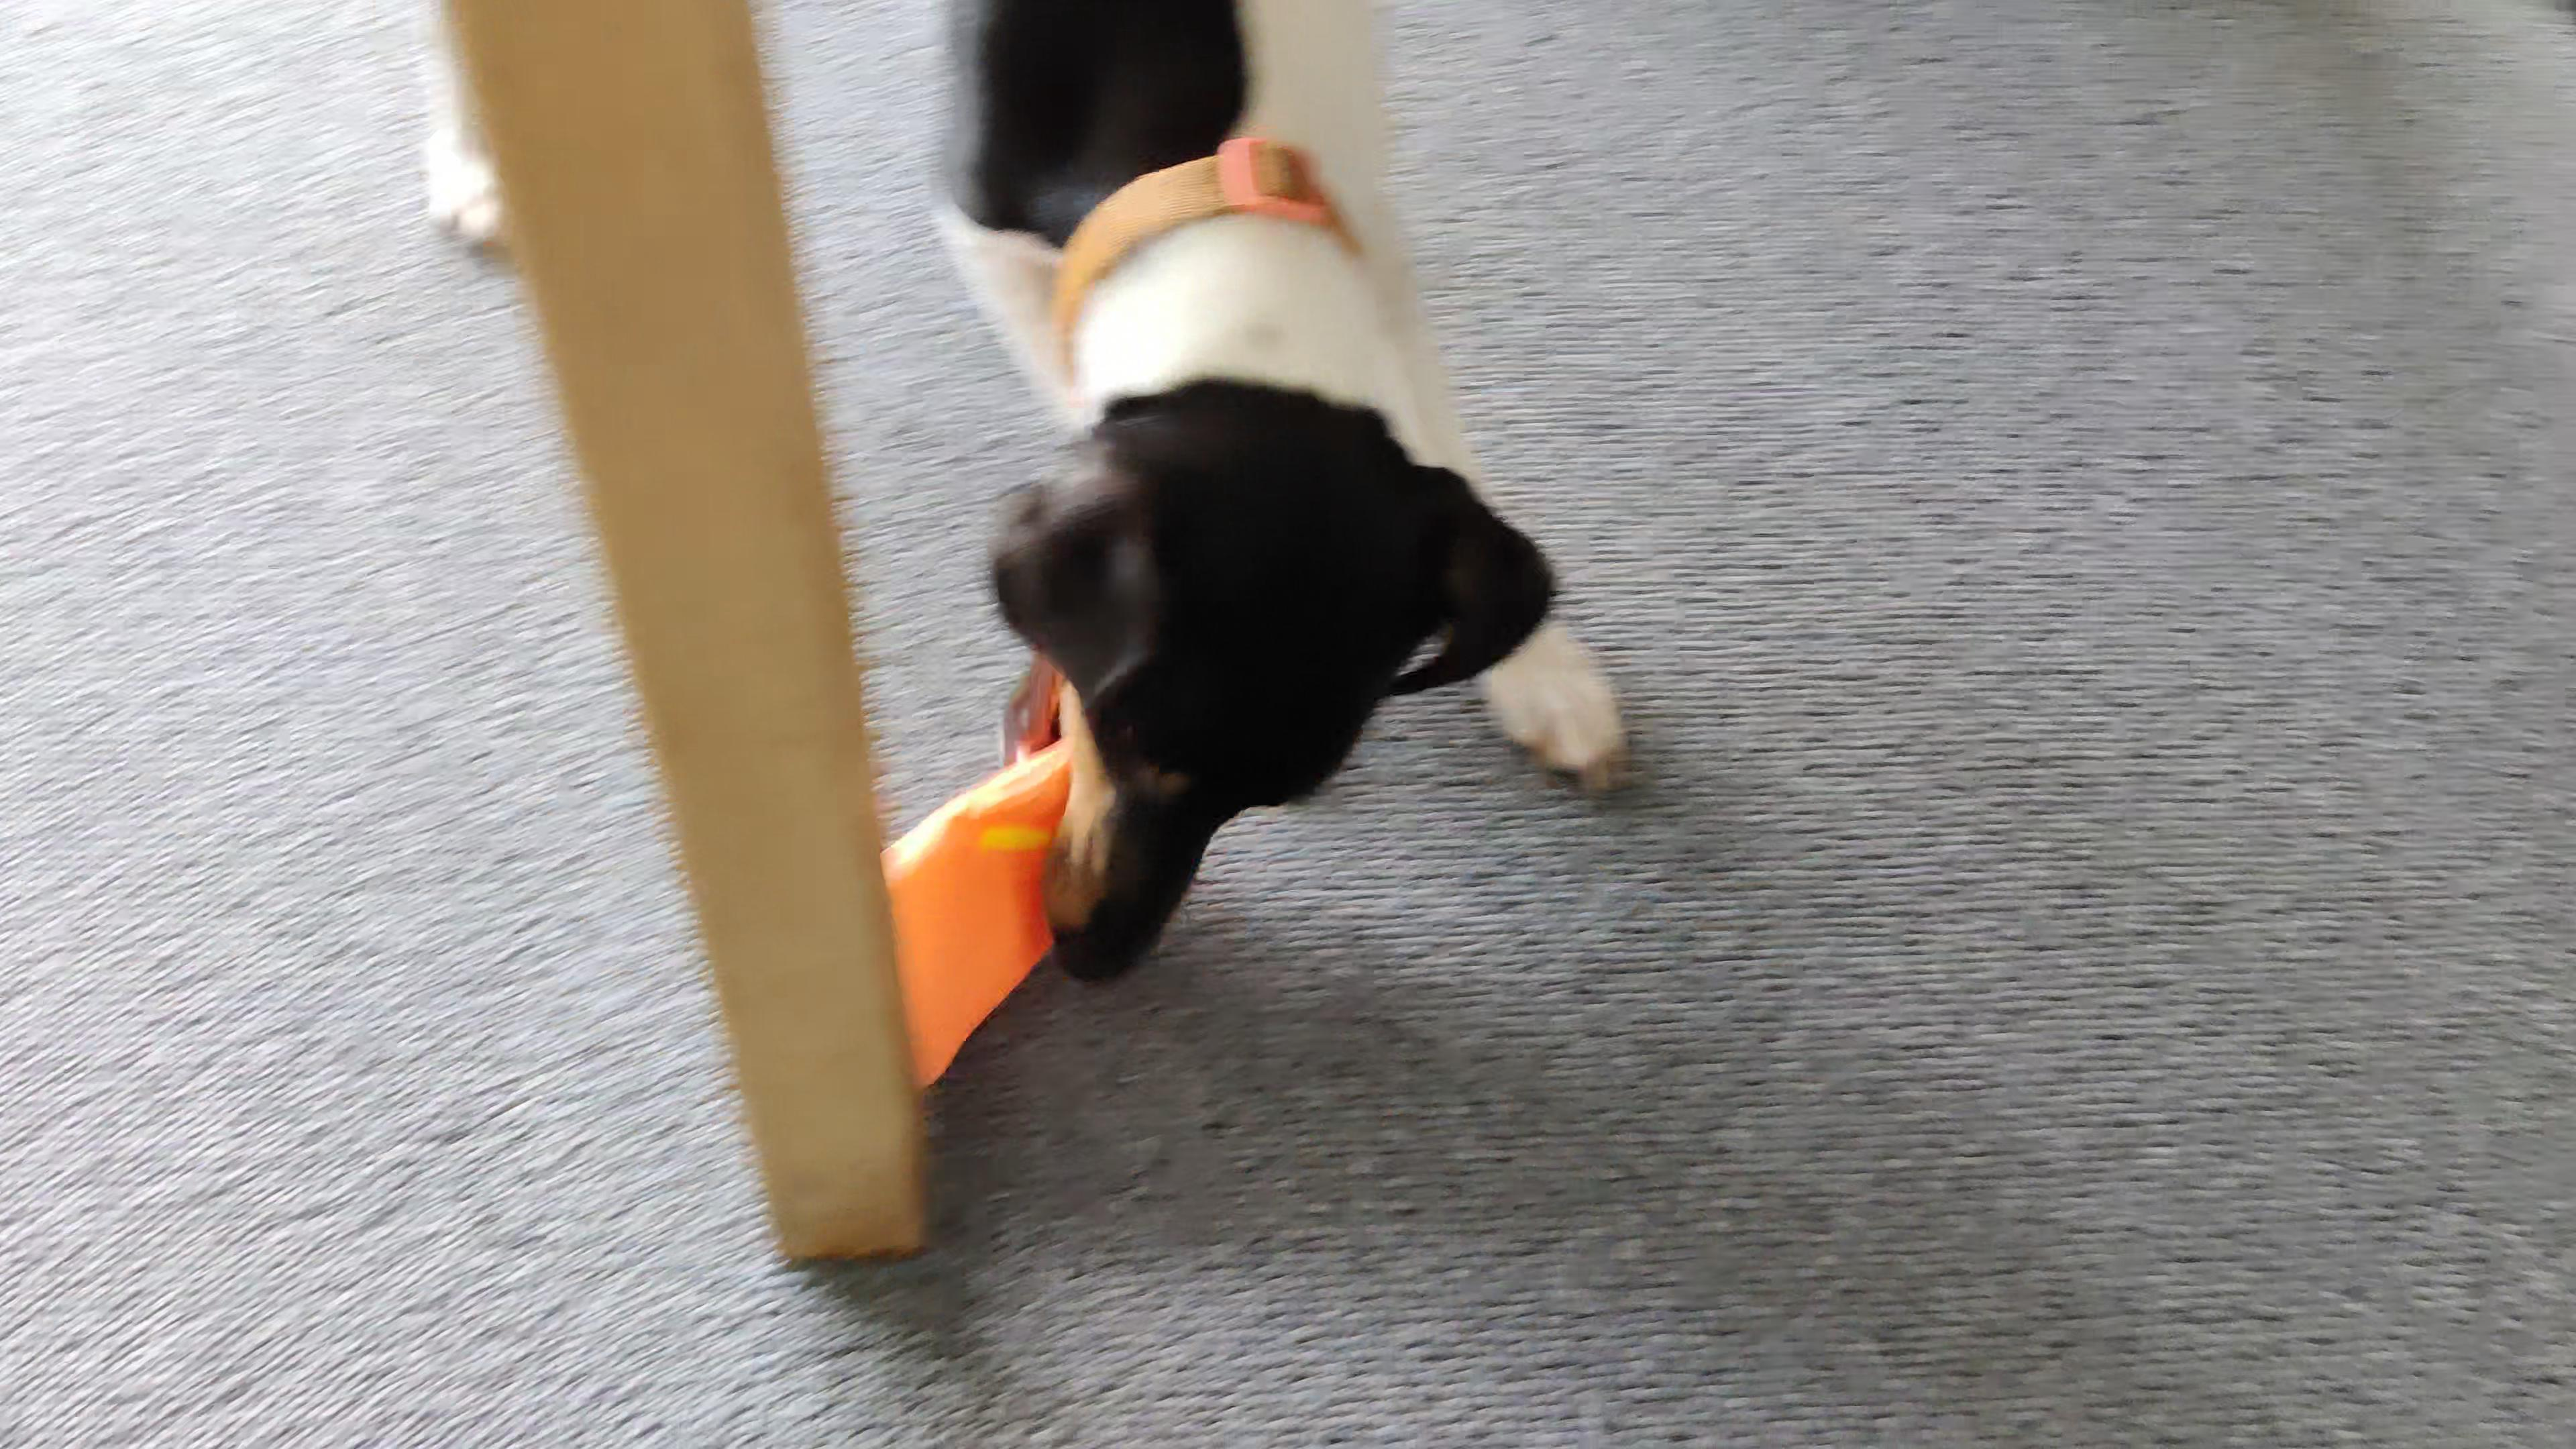Dog: (387, 0, 1647, 1001)
